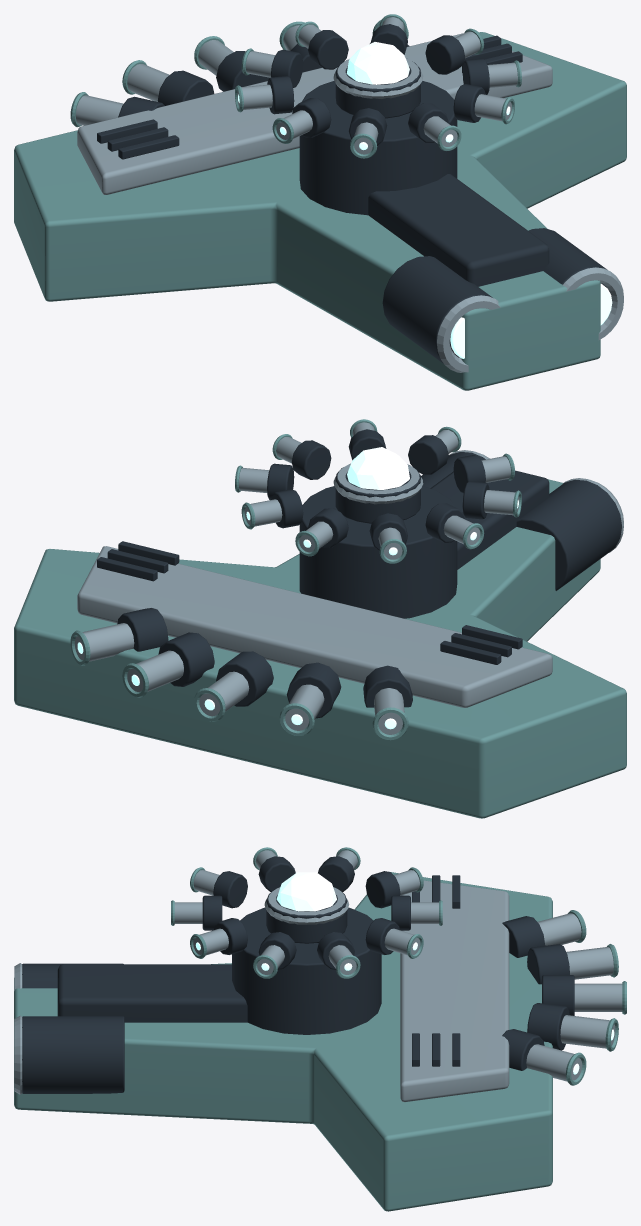
File: miniboss_martelo.glb
3 renders of one model, top to bottom at view 1: azimuth 30°, elevation 25°; view 2: azimuth 150°, elevation 25°; view 3: azimuth 270°, elevation 25°, orthographic. The views are drawn at different scales.
Visible parts, largest first — view 1: miniboss | MARTELO | armor, miniboss | Graphite chassis, miniboss | Titanium, ring_rotor.001 | Graphite chassis, ring_rotor.001 | Titanium, miniboss | MARTELO | energy, ring_rotor.001 | MARTELO | armor; view 2: miniboss | MARTELO | armor, miniboss | Graphite chassis, miniboss | Titanium, ring_rotor.001 | Graphite chassis, ring_rotor.001 | Titanium, miniboss | MARTELO | energy, ring_rotor.001 | MARTELO | armor; view 3: miniboss | MARTELO | armor, miniboss | Graphite chassis, miniboss | Titanium, ring_rotor.001 | Graphite chassis, ring_rotor.001 | Titanium, miniboss | MARTELO | energy, ring_rotor.001 | MARTELO | armor.
Boxes of the visible parts, box(x1,y1,x2,y2) form: miniboss | MARTELO | armor: box(14, 20, 626, 390); miniboss | Graphite chassis: box(97, 35, 609, 363); miniboss | Titanium: box(75, 25, 623, 372); ring_rotor.001 | Graphite chassis: box(267, 24, 489, 145); ring_rotor.001 | Titanium: box(237, 17, 517, 154); miniboss | MARTELO | energy: box(346, 42, 612, 358); ring_rotor.001 | MARTELO | armor: box(235, 14, 521, 158); miniboss | MARTELO | armor: box(14, 479, 626, 818); miniboss | Graphite chassis: box(97, 452, 621, 718); miniboss | Titanium: box(74, 450, 623, 734); ring_rotor.001 | Graphite chassis: box(267, 429, 489, 550); ring_rotor.001 | Titanium: box(239, 422, 519, 559); miniboss | MARTELO | energy: box(77, 447, 409, 729); ring_rotor.001 | MARTELO | armor: box(235, 419, 521, 563); miniboss | MARTELO | armor: box(14, 871, 626, 1211); miniboss | Graphite chassis: box(22, 875, 574, 1093); miniboss | Titanium: box(14, 880, 622, 1101); ring_rotor.001 | Graphite chassis: box(202, 856, 410, 969); ring_rotor.001 | Titanium: box(174, 850, 438, 974); miniboss | MARTELO | energy: box(276, 872, 614, 1074); ring_rotor.001 | MARTELO | armor: box(171, 847, 442, 978).
Size of the model in its own units: 2.03 by 0.73 by 1.97.
